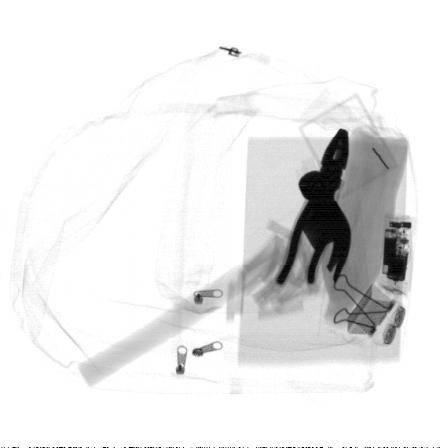Hammer: (77, 170, 351, 390)
Pliers: (274, 128, 348, 285)
